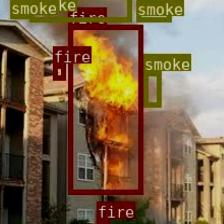fire: (68, 24, 142, 194), (52, 63, 65, 79), (95, 218, 108, 224)
smoke: (29, 0, 130, 20), (135, 0, 171, 21), (143, 71, 161, 106), (9, 0, 32, 18)
